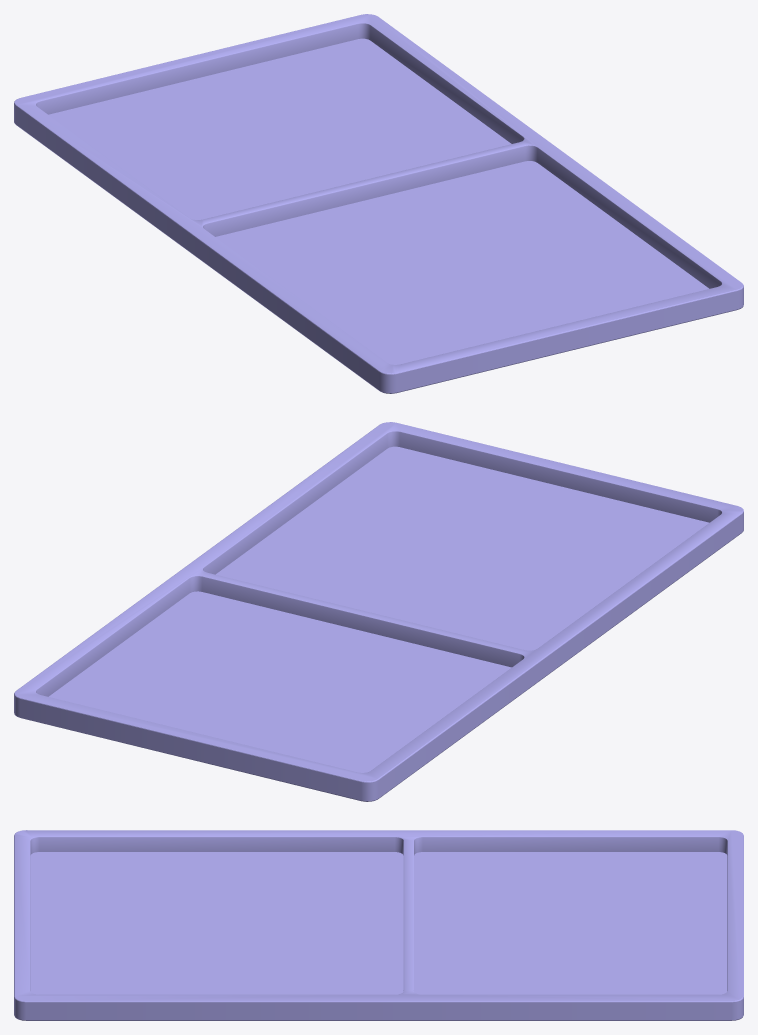
File: Board_Frame.fbx
3 views of the same model, one above another, from view 1: azimuth 30°, elevation 25°; view 2: azimuth 150°, elevation 25°; view 3: azimuth 270°, elevation 25° (orthographic). The views are drawn at different scales.
Parts seen in each view (by area): view 1: Board_Frame; view 2: Board_Frame; view 3: Board_Frame.
Boxes of the visible parts, box(x1,y1,x2,y2) form: Board_Frame: box(14, 14, 743, 393); Board_Frame: box(14, 422, 743, 801); Board_Frame: box(14, 830, 743, 1020).
Size of the model in its own units: 4.63 by 0.25 by 8.32.
